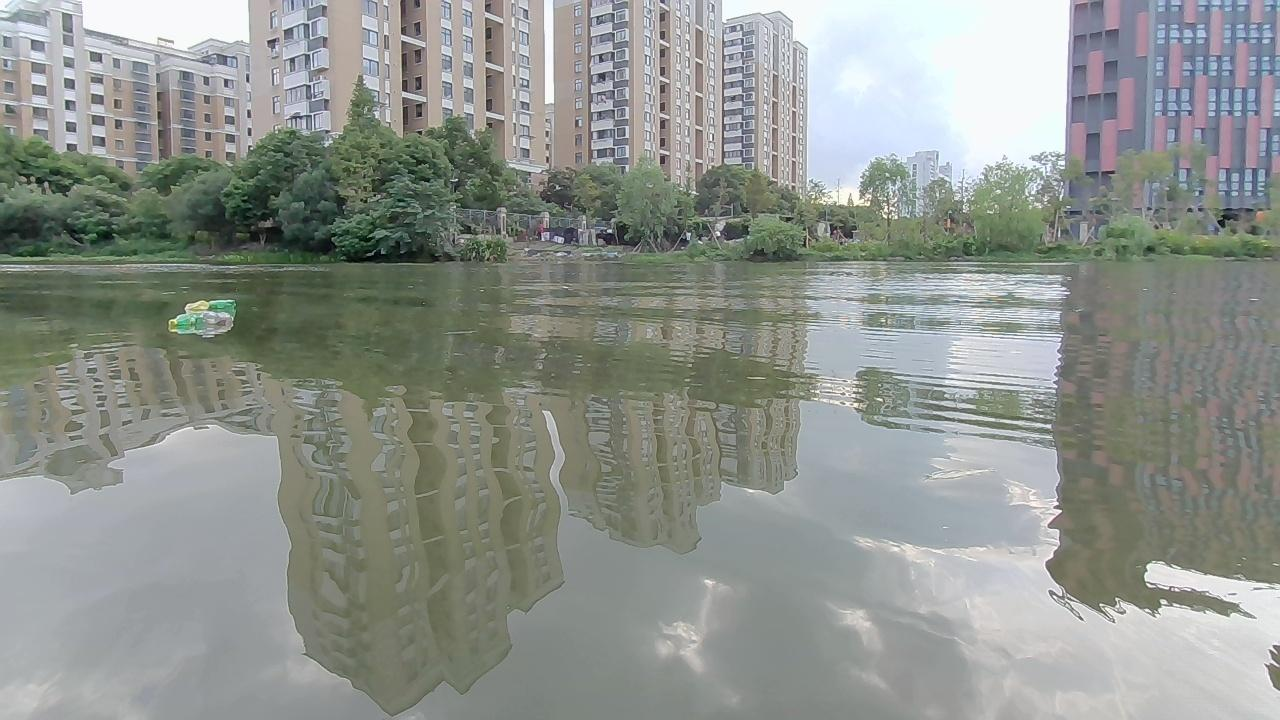bottle: (167, 312, 215, 333), (200, 312, 236, 335), (183, 297, 212, 318), (212, 294, 234, 312)
